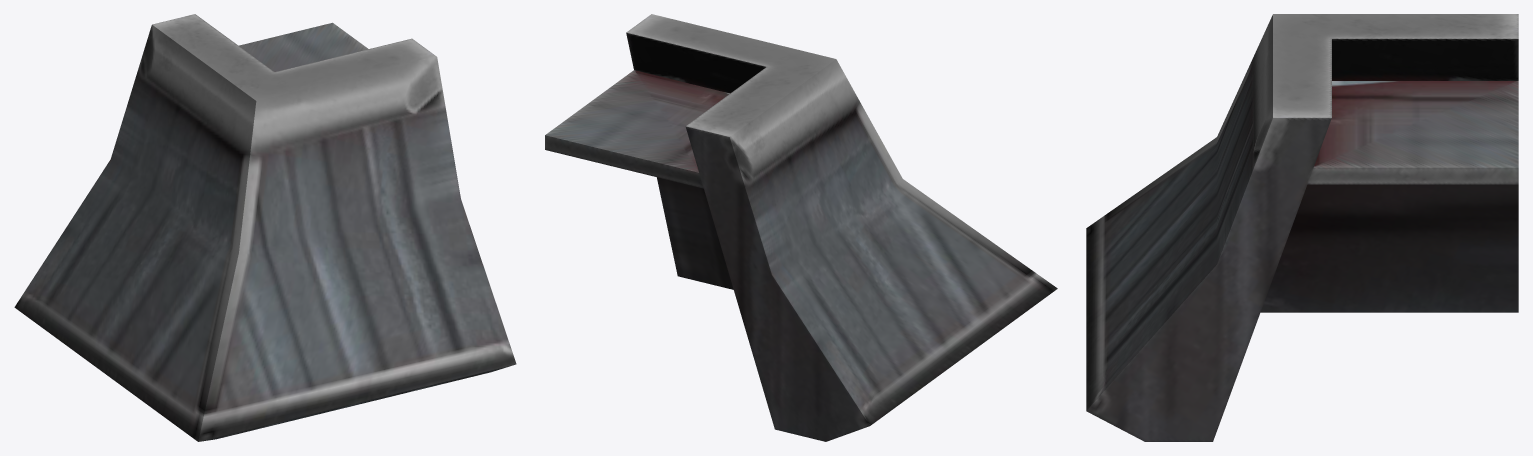
3 renders of one model, left to right at view 1: azimuth 30°, elevation 25°; view 2: azimuth 150°, elevation 25°; view 3: azimuth 270°, elevation 25°, orthographic. The views are drawn at different scales.
Parts seen in each view (by area): view 1: Roof corner Module; view 2: Roof corner Module; view 3: Roof corner Module.
Part boxes in pixels (x1=…): Roof corner Module: x1=14, y1=14, x2=516, y2=441; Roof corner Module: x1=545, y1=14, x2=1057, y2=441; Roof corner Module: x1=1086, y1=14, x2=1518, y2=441.
Size of what is drawn, in the model's own units: 2.6 by 2.15 by 2.6.
Materials: 1 (1 with a texture image).
